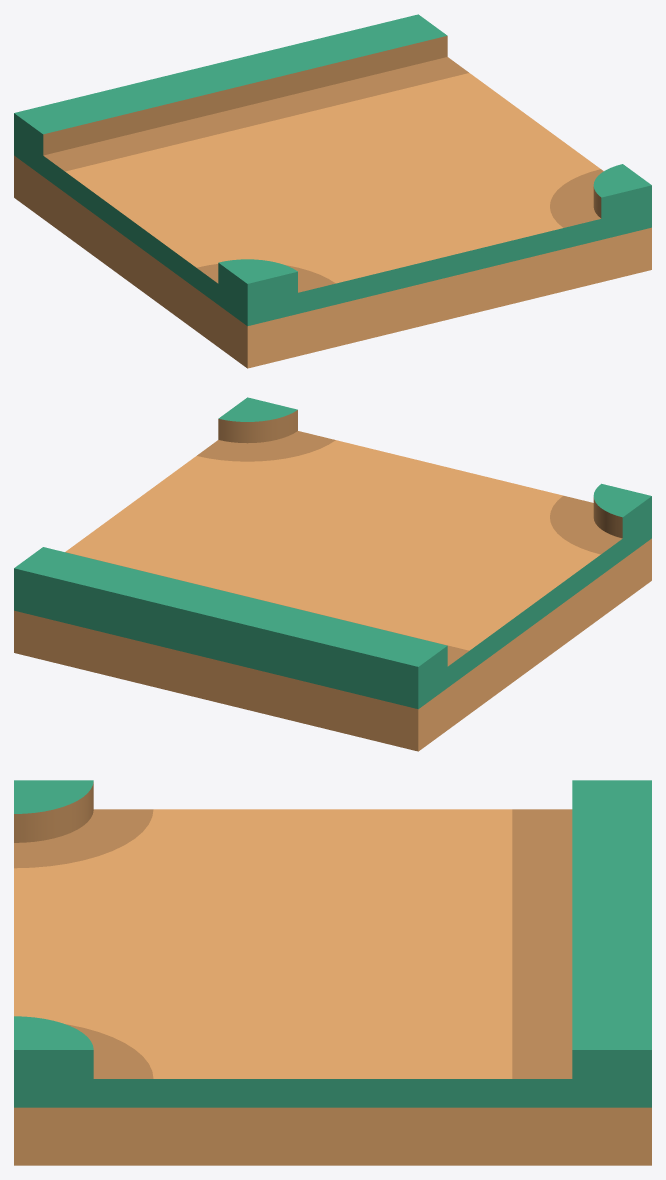
Rendered from tile_split.fbx.
The picture shows the model from 3 angles, top to bottom: view 1: azimuth 30°, elevation 25°; view 2: azimuth 150°, elevation 25°; view 3: azimuth 270°, elevation 25°; orthographic projection. The views are drawn at different scales.
Visible parts, largest first — view 1: tile_split; view 2: tile_split; view 3: tile_split.
Boxes of the visible parts, x1,y1,x2,y2 form: tile_split: (14, 14, 651, 368); tile_split: (14, 397, 651, 751); tile_split: (14, 780, 651, 1165).
Bounding box in the file's own units: 10 × 2 × 10.
